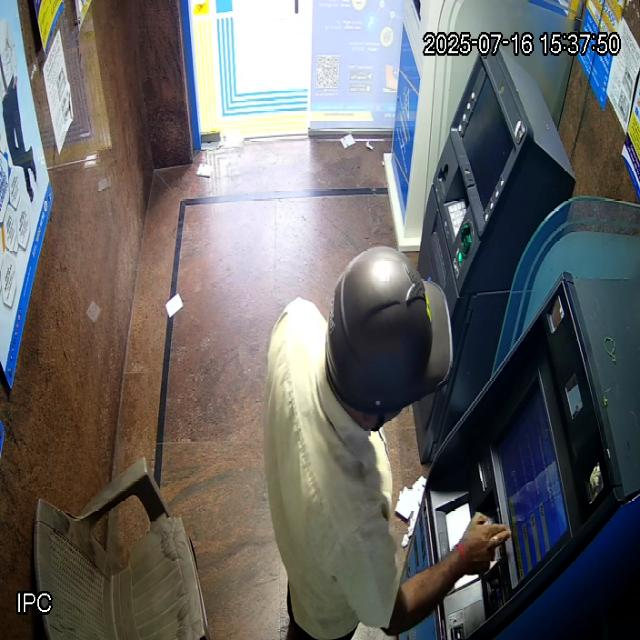helmet: (324, 245, 454, 431)
